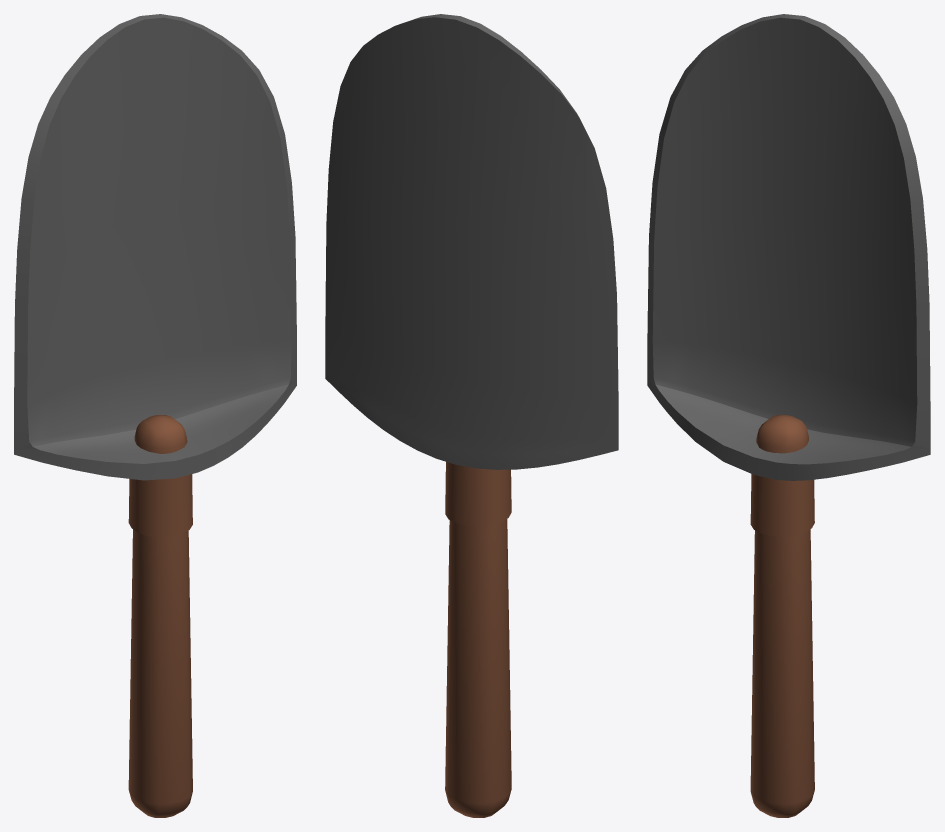
Rendered from Tool6.fbx.
3 views of the same model, side by side, from view 1: azimuth 30°, elevation 25°; view 2: azimuth 150°, elevation 25°; view 3: azimuth 330°, elevation 25° (orthographic). The views are drawn at different scales.
Parts seen in each view (by area): view 1: Cube.056; view 2: Cube.056; view 3: Cube.056.
Part boxes in pixels (x1,y1,x2,y2): Cube.056: (14,14,296,817); Cube.056: (325,14,618,817); Cube.056: (647,14,930,817).
Bounding box in the file's own units: 0.3015 × 0.0798 × 0.7967.
